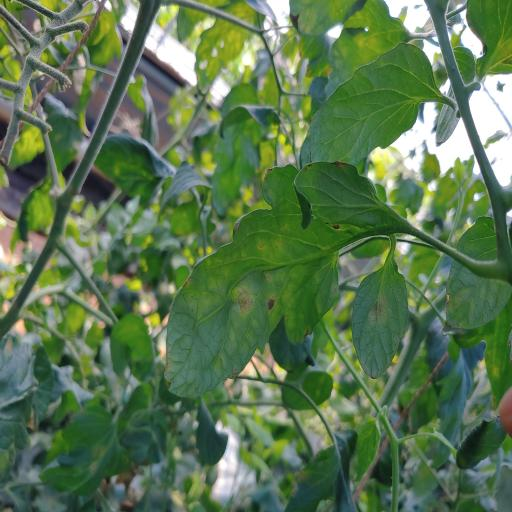Healthy: (308, 40, 436, 166)
Leaf Mold: (162, 159, 378, 401), (352, 264, 408, 382)
